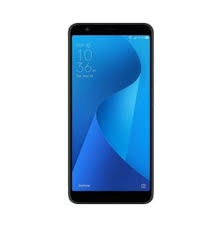asus: (64, 20, 157, 207)
